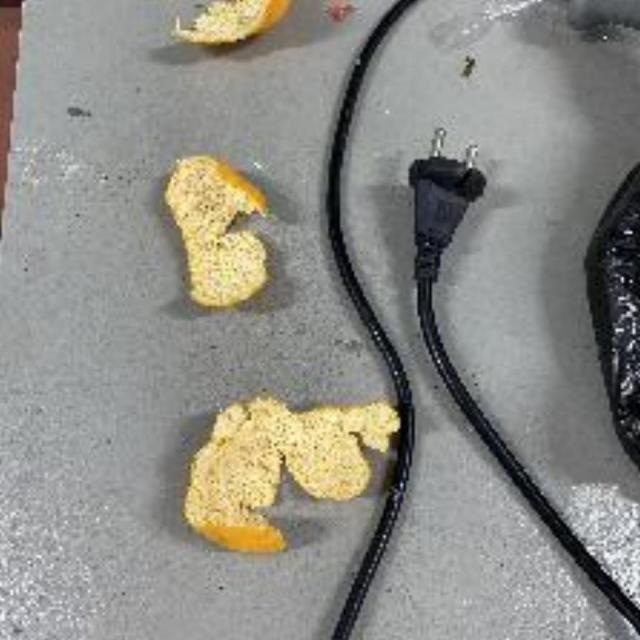orange-peel: (184, 388, 406, 554), (167, 151, 281, 310), (176, 1, 300, 50)
